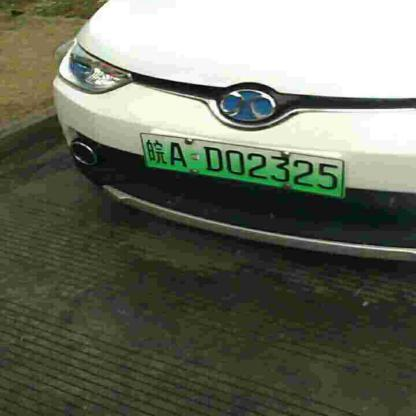lp: (139, 132, 343, 199)
